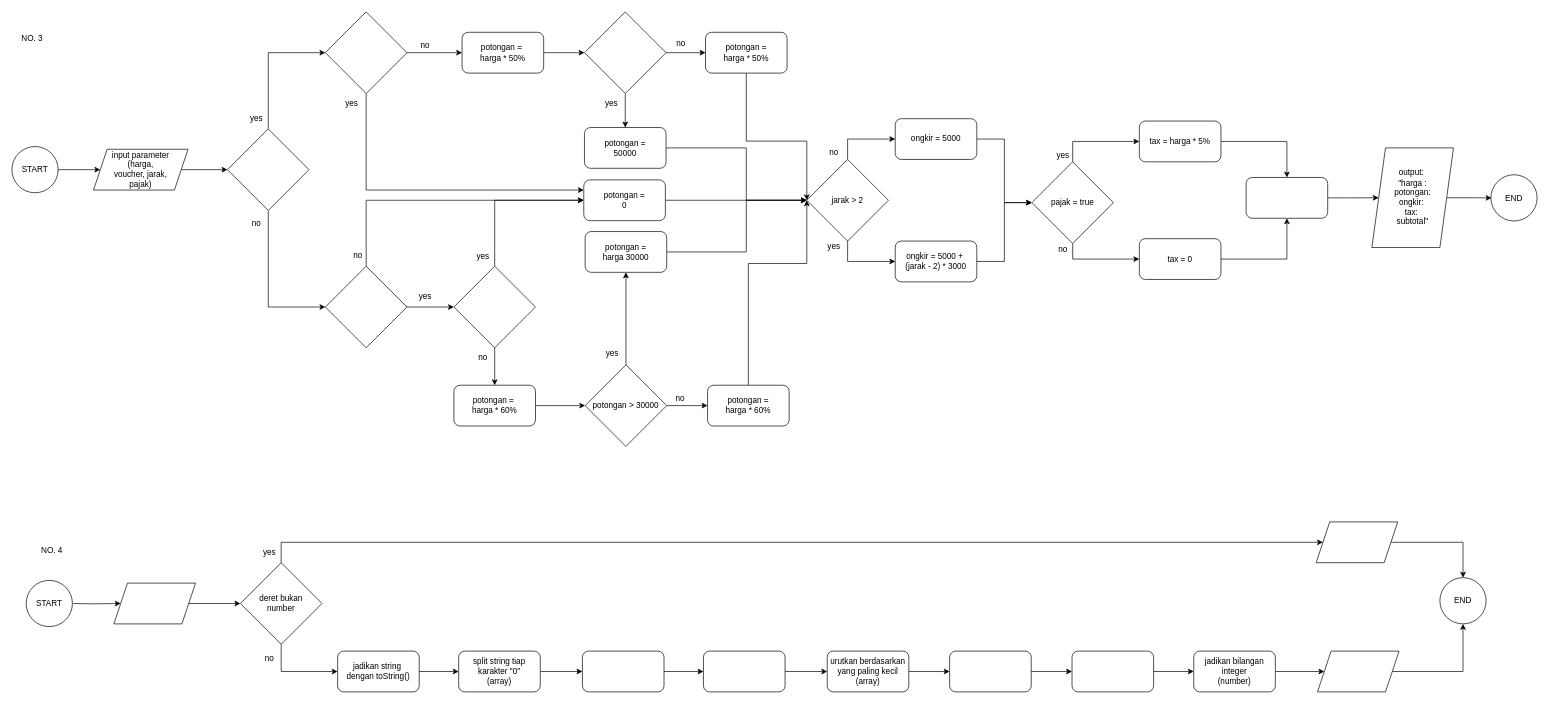
Image size: 1549x704. Some labels were removed from this diagram. The shapes that lost their labels are listed below. From the top down, each one's centre as x and y in pixels, then its label:
point (366, 52): harga < 50000
point (625, 52): potongan > 50000
point (268, 169): voucher "FAZZFOOD50" dimasukkan
point (1286, 197): total = harga - potongan + ongkir + tax
point (366, 307): voucher "DITRAKTIR60" dimasukkan
point (494, 307): harga < 25000
point (1356, 542): output: "bukan deret angka" (string)
point (154, 603): input : fungsi(deret)
point (623, 671): pisahkan masing-masing segmen ke dalam array
point (744, 671): split segmen tiap angka (array)
point (990, 671): join tiap angka di dalam segmen (string)
point (1112, 671): join semua segmen menjadi satu (string)
point (1358, 671): output: deret angka baru (number)
